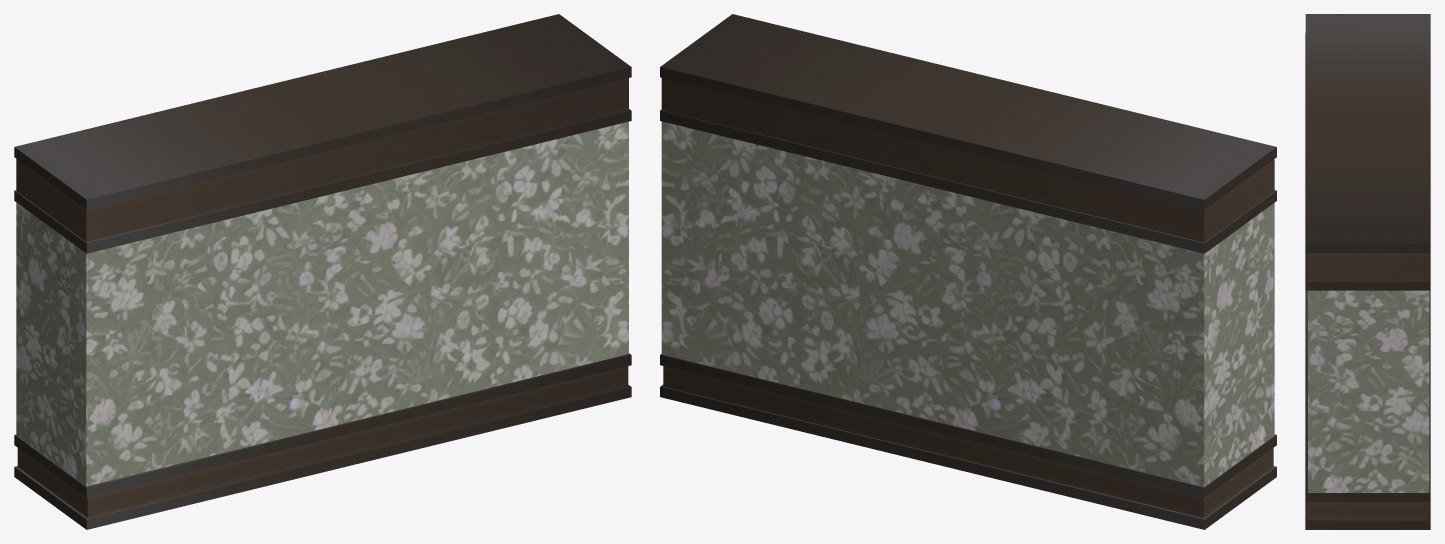
File: kitcentop03aa.fbx
The picture shows the model from 3 angles, left to right: view 1: azimuth 30°, elevation 25°; view 2: azimuth 150°, elevation 25°; view 3: azimuth 270°, elevation 25°; orthographic projection. The views are drawn at different scales.
Parts seen in each view (by area): view 1: kitcentop03aa; view 2: kitcentop03aa; view 3: kitcentop03aa.
Boxes of the visible parts, x1,y1,x2,y2 form: kitcentop03aa: (14,14,631,529); kitcentop03aa: (660,14,1276,529); kitcentop03aa: (1305,14,1430,529).
Size of the model in its own units: 1.86 by 1.08 by 0.4287.
